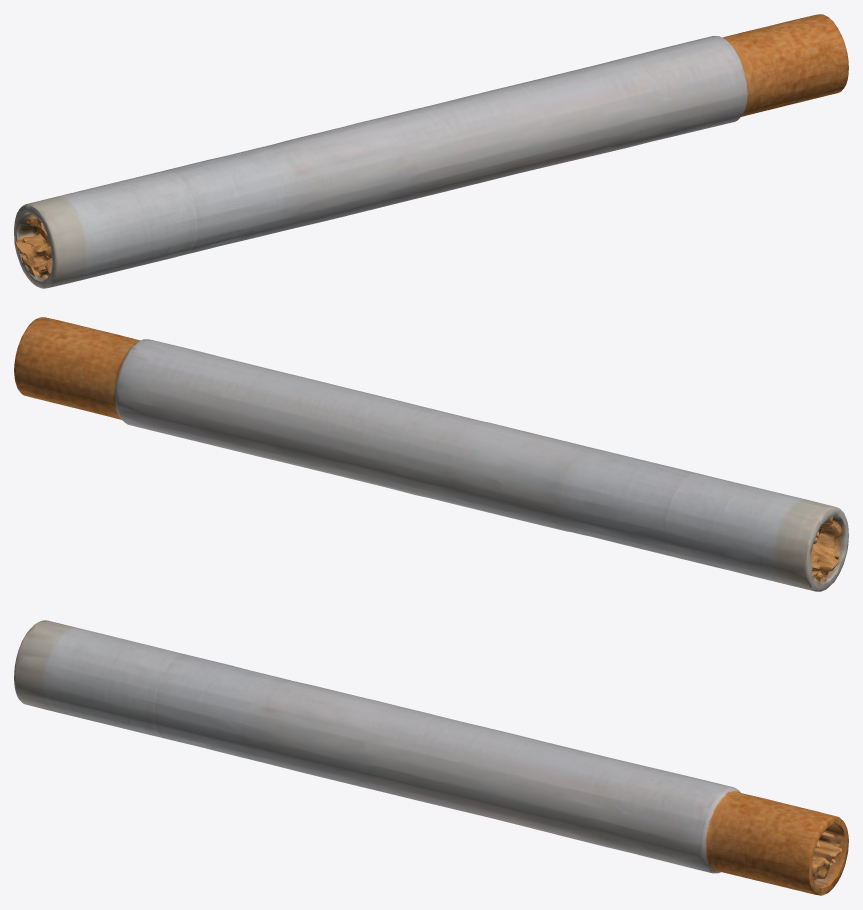
The model's file is cigarette.glb.
The picture shows the model from 3 angles, top to bottom: view 1: azimuth 30°, elevation 25°; view 2: azimuth 150°, elevation 25°; view 3: azimuth 330°, elevation 25°; orthographic projection.
Visible parts, largest first — view 1: cigarette; view 2: cigarette; view 3: cigarette.
Part boxes in pixels (x1,y1,x2,y2): cigarette: (14, 14, 848, 288); cigarette: (14, 317, 848, 591); cigarette: (14, 620, 848, 895).
Bounding box in the file's own units: 1.15 × 0.11 × 0.11.
1 material, 1 textured.
